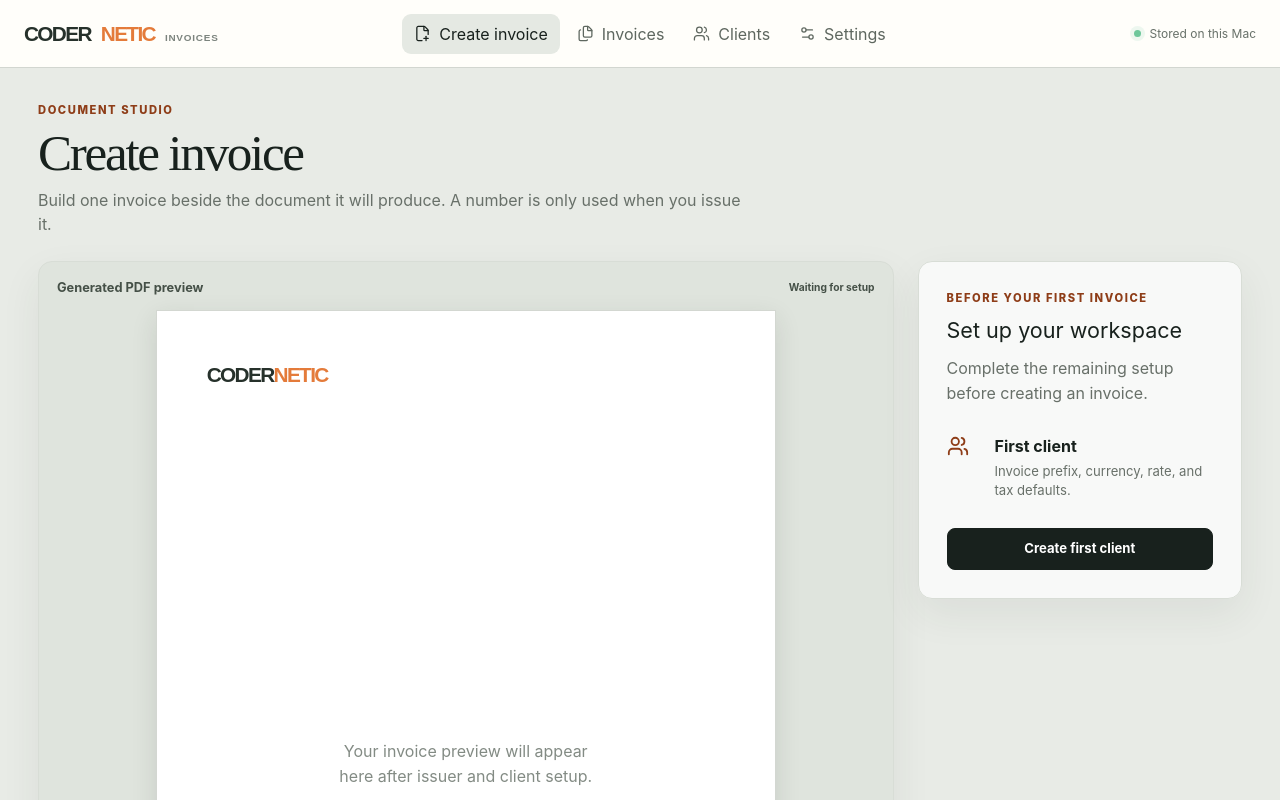
client management › shows only the missing setup requirement before creating an invoice
Expected: the text "First client" is shown, [994, 436, 1077, 456]
Click the button "Create first client" at (1080, 549), box [946, 528, 1213, 570]
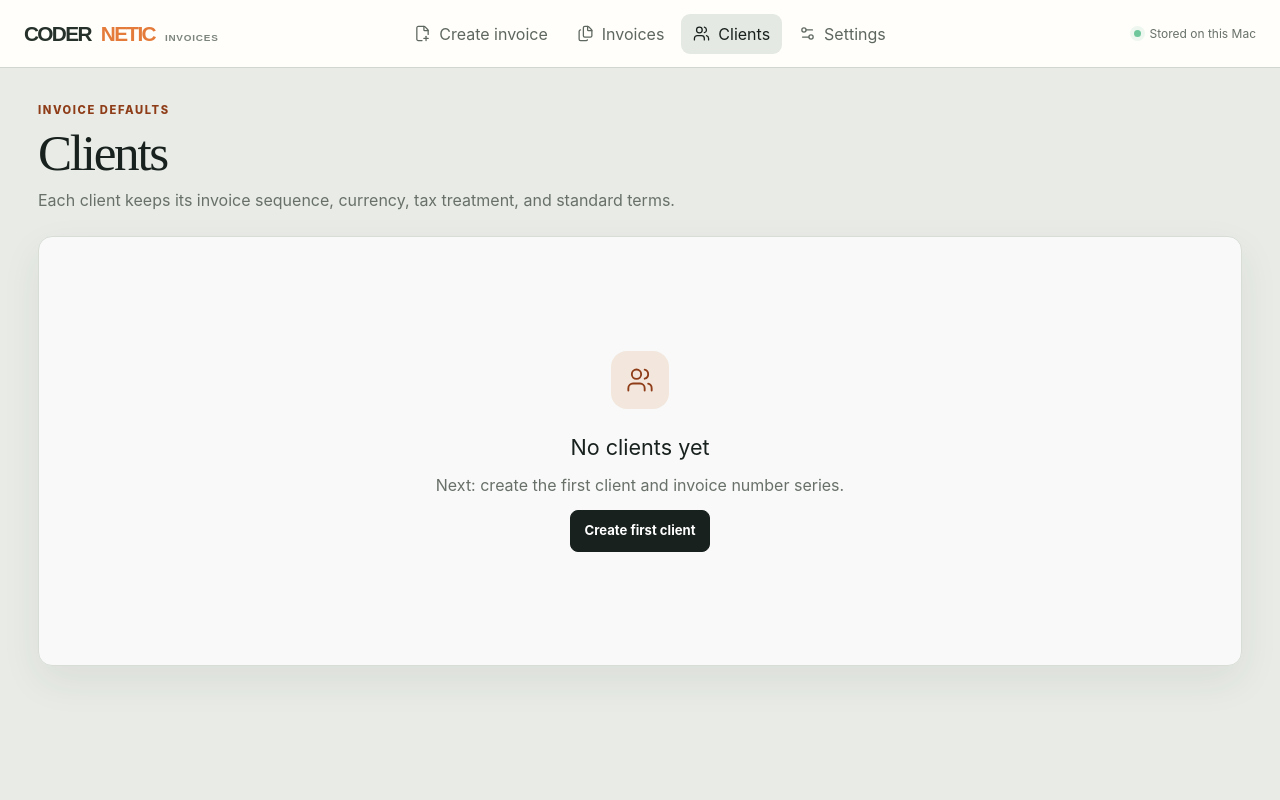
Expected: the heading "No clients yet" is shown, [570, 431, 710, 463]
